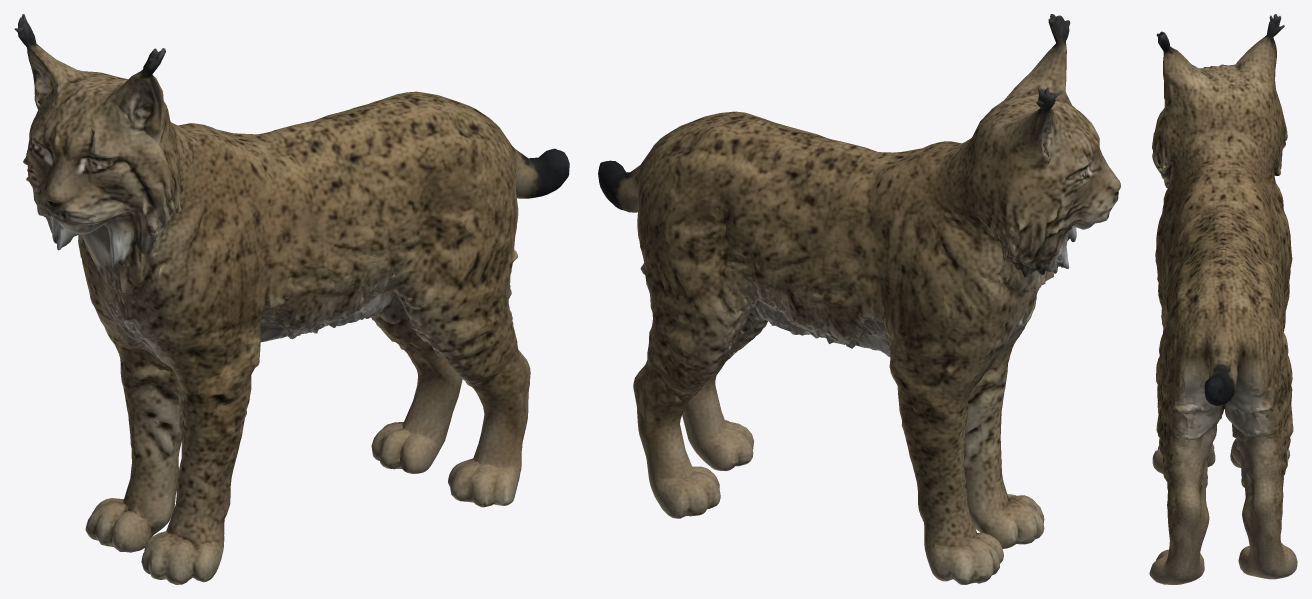
Rendered from eurasian-lynx-v21.glb.
3 views of the same model, side by side, from view 1: azimuth 30°, elevation 25°; view 2: azimuth 150°, elevation 25°; view 3: azimuth 270°, elevation 25° (orthographic). The views are drawn at different scales.
Parts seen in each view (by area): view 1: geometry_0; view 2: geometry_0; view 3: geometry_0.
Part boxes in pixels (bbox=[...]): geometry_0: bbox=[14, 14, 569, 584]; geometry_0: bbox=[598, 14, 1120, 584]; geometry_0: bbox=[1149, 14, 1297, 584].
Bounding box in the file's own units: 0.9996 × 0.9807 × 0.3109.
1 material, 1 textured.
